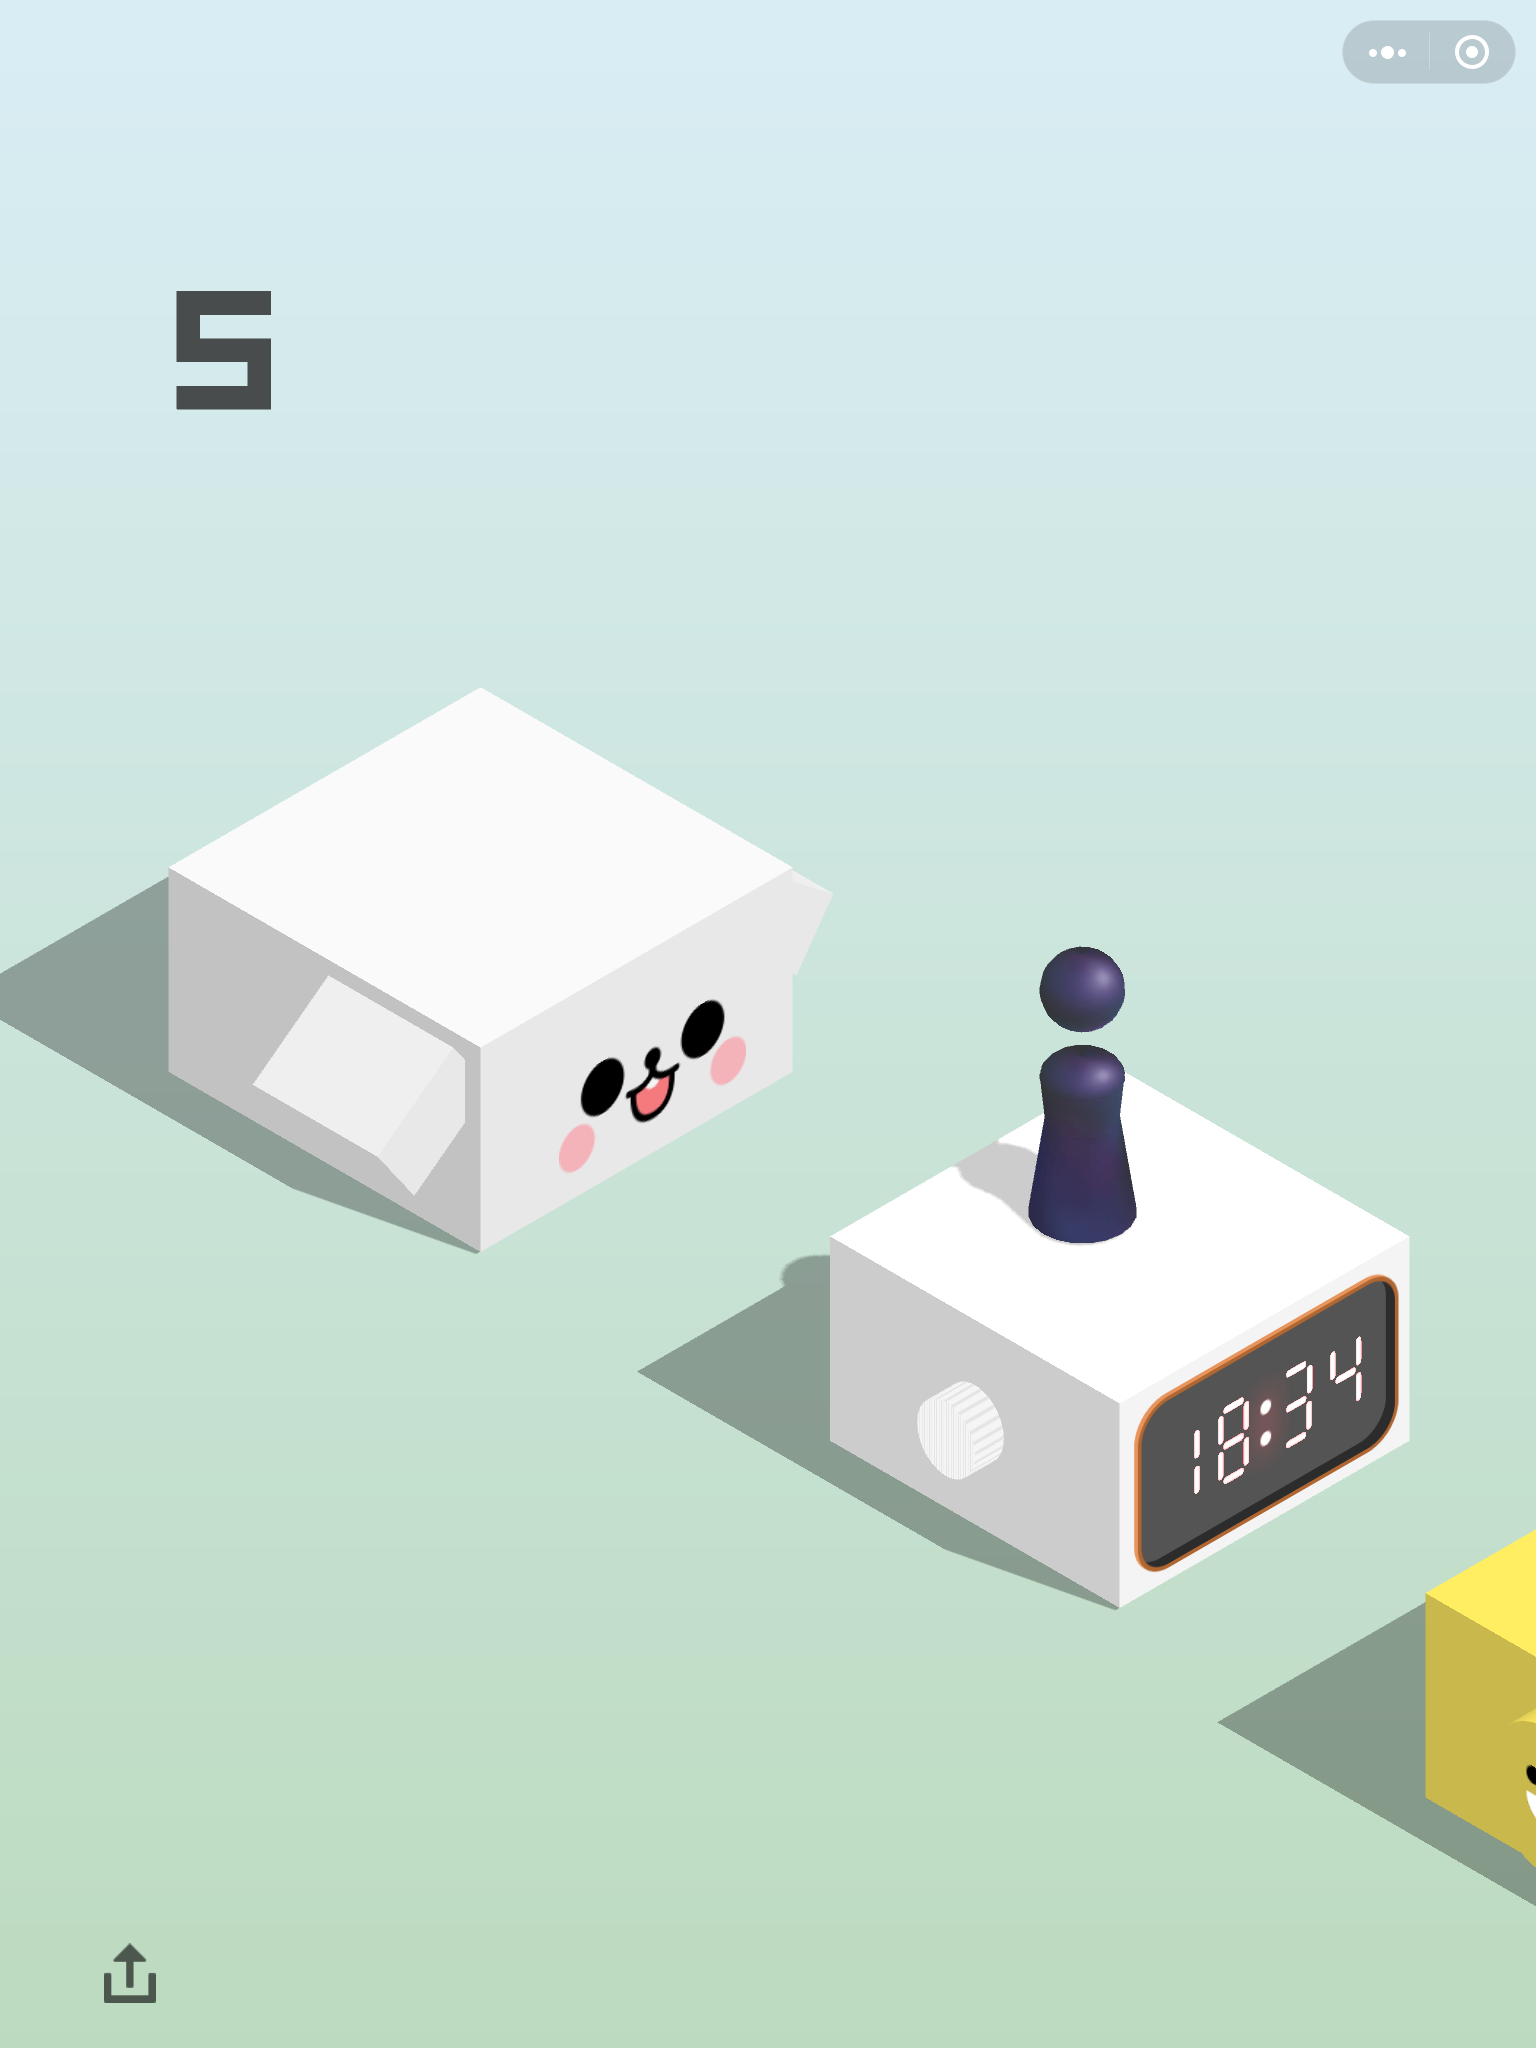f: (161, 685, 836, 1258), (824, 1064, 1413, 1613), (1420, 1513, 1536, 1879)
r: (1025, 939, 1142, 1247)
